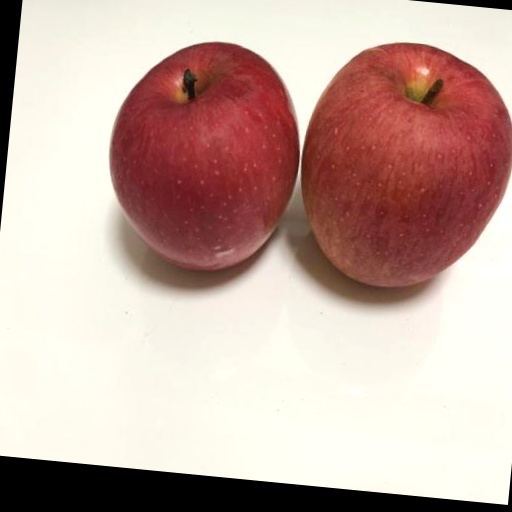fruit: (301, 43, 512, 286), (110, 43, 299, 270)
